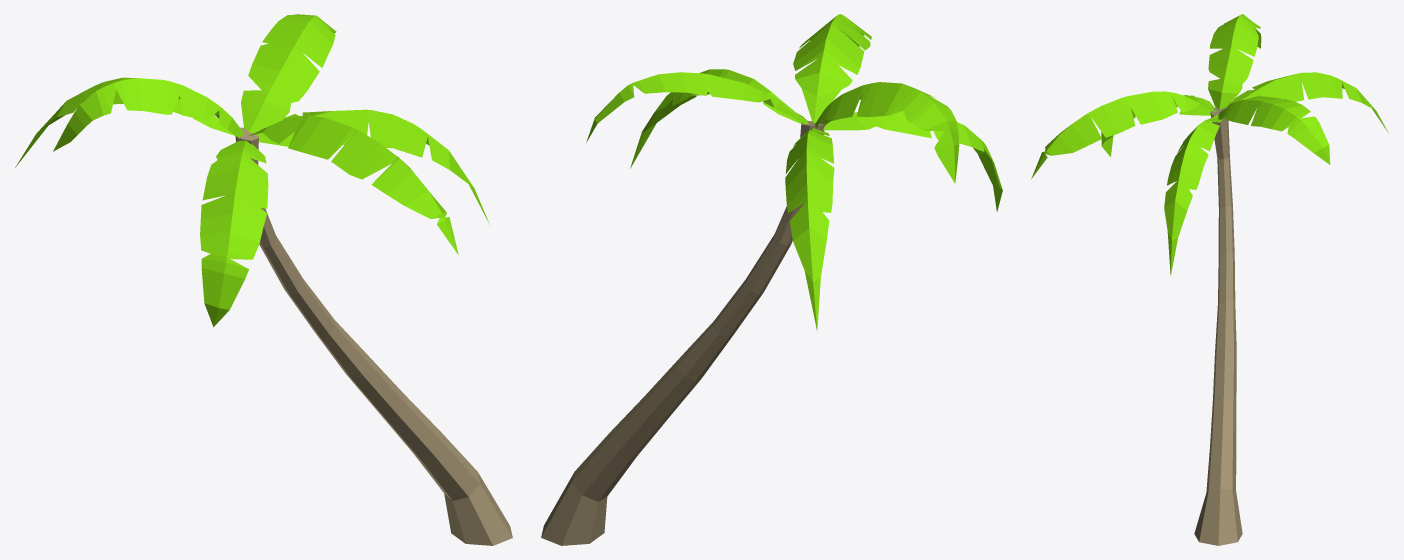
The model's file is palm06.fbx.
3 renders of one model, left to right at view 1: azimuth 30°, elevation 25°; view 2: azimuth 150°, elevation 25°; view 3: azimuth 270°, elevation 25°, orthographic. The views are drawn at different scales.
Parts seen in each view (by area): view 1: palm.006; view 2: palm.006; view 3: palm.006.
Boxes of the visible parts, x1,y1,x2,y2 form: palm.006: (15, 14, 512, 545); palm.006: (541, 14, 1002, 545); palm.006: (1031, 14, 1388, 545).
Bounding box in the file's own units: 256 × 301 × 249.
